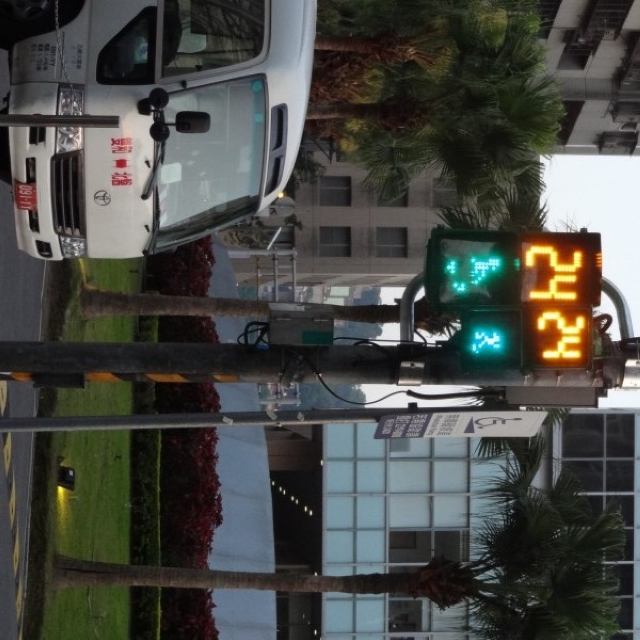green_light: (432, 232, 601, 306), (455, 312, 594, 369)
